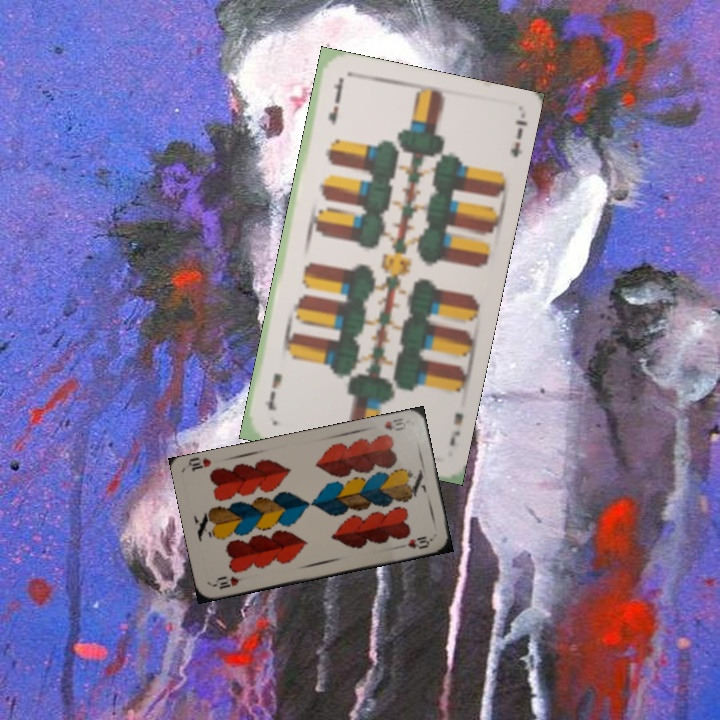E7: (324, 76, 346, 128), (445, 408, 466, 449)
H10: (210, 572, 249, 592), (380, 414, 409, 434)
